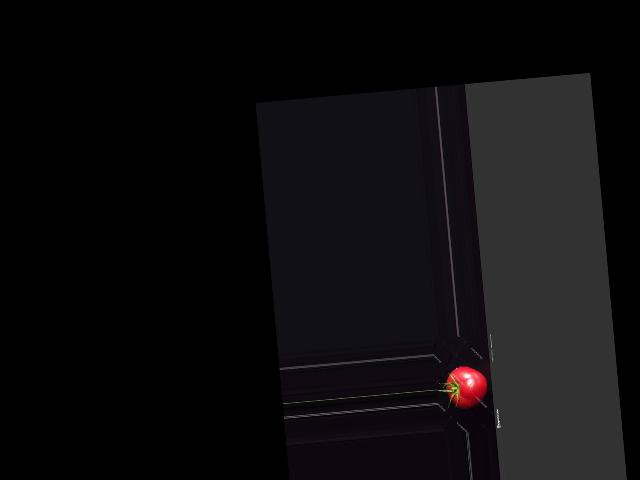tomato: (444, 364, 489, 410)
